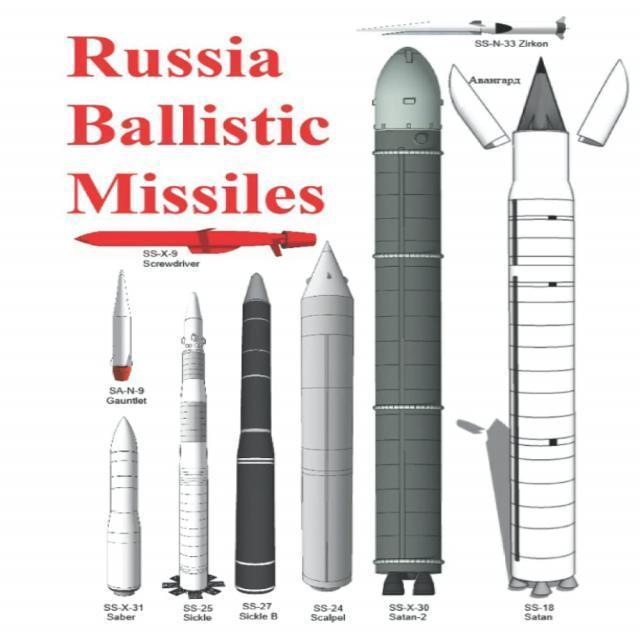missile: (361, 41, 453, 600), (293, 242, 361, 600), (161, 285, 227, 602), (227, 261, 282, 599), (92, 411, 150, 600), (362, 10, 577, 44), (97, 267, 145, 388)
